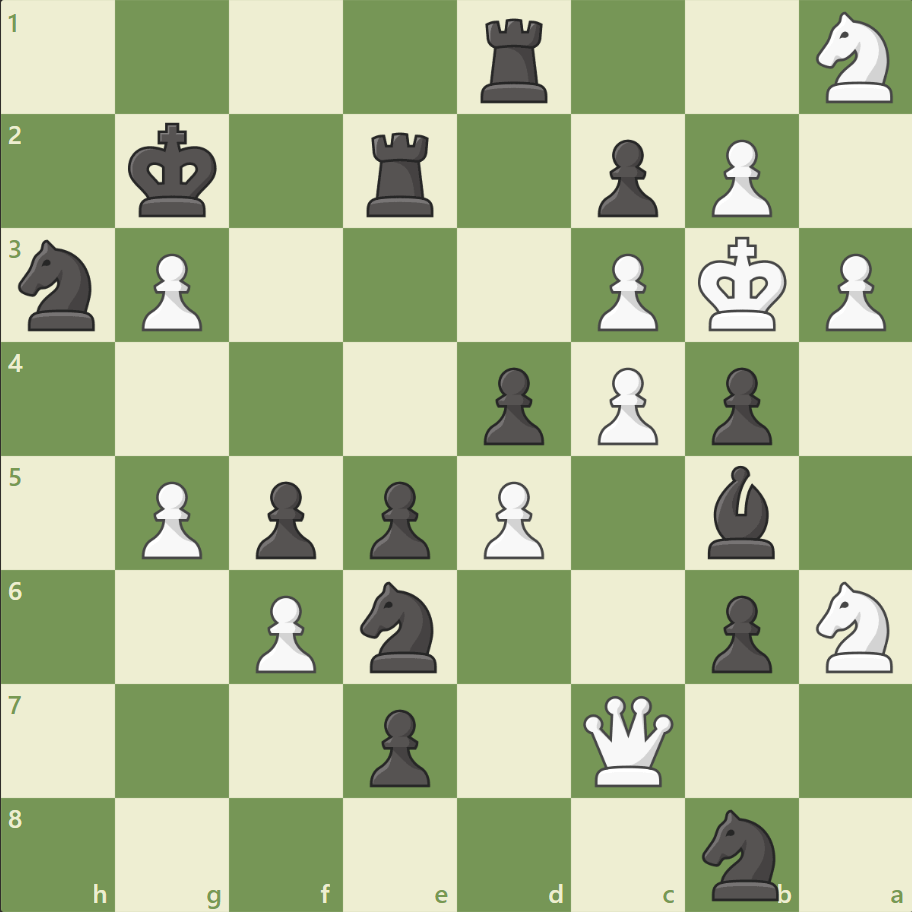K: (692, 231, 792, 339)
N: (806, 7, 903, 110), (806, 575, 903, 677)
P: (247, 586, 322, 677), (474, 473, 549, 564), (133, 473, 208, 564), (133, 246, 208, 337), (701, 132, 776, 223), (588, 359, 662, 450), (815, 246, 889, 337), (588, 246, 662, 337)
Q: (578, 690, 677, 789)
b: (698, 460, 782, 563)
k: (124, 117, 224, 225)
n: (351, 575, 449, 677), (11, 234, 108, 337), (692, 802, 789, 904)
p: (701, 586, 776, 677), (247, 473, 322, 564), (701, 359, 776, 450), (474, 359, 549, 450), (361, 700, 435, 791), (361, 473, 435, 564), (588, 132, 662, 223)
r: (473, 12, 556, 109), (360, 125, 442, 222)
